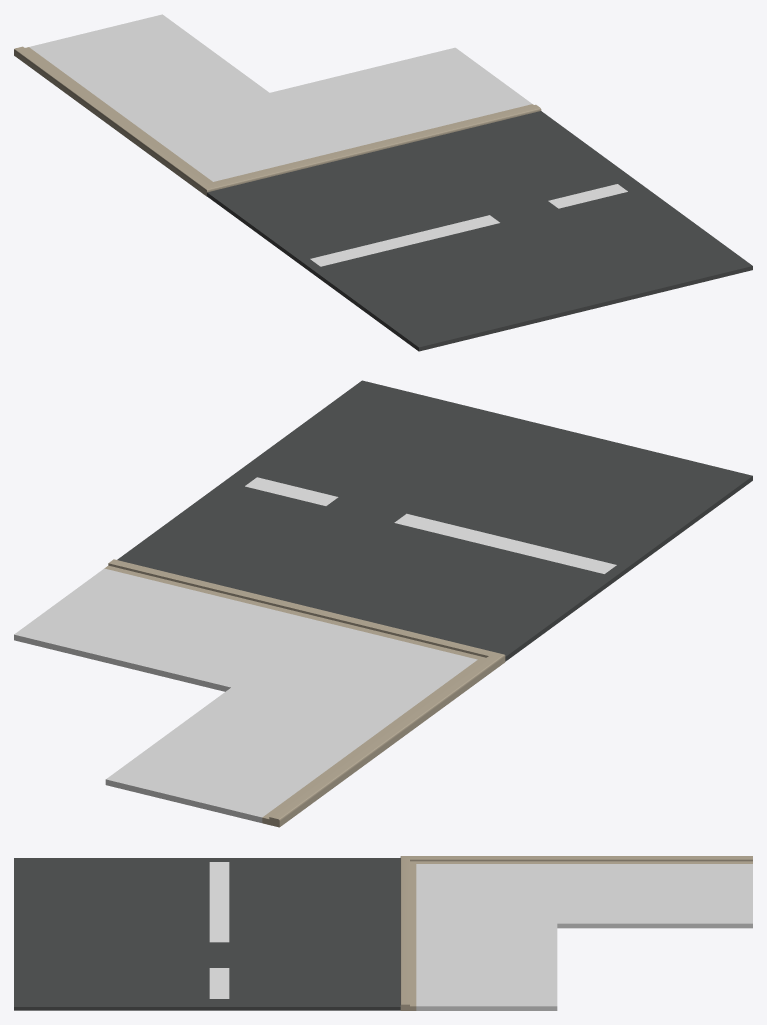
File: Corner_Sidewalk_Plus_Road.fbx
3 views of the same model, one above another, from view 1: azimuth 30°, elevation 25°; view 2: azimuth 150°, elevation 25°; view 3: azimuth 270°, elevation 25° (orthographic). The views are drawn at different scales.
Parts seen in each view (by area): view 1: Corner_Pavement_Plus_Road; view 2: Corner_Pavement_Plus_Road; view 3: Corner_Pavement_Plus_Road.
Boxes of the visible parts, x1,y1,x2,y2 form: Corner_Pavement_Plus_Road: [14, 14, 752, 351]; Corner_Pavement_Plus_Road: [14, 380, 752, 827]; Corner_Pavement_Plus_Road: [14, 856, 752, 1010].
Size of the model in its own units: 180 by 3.53 by 378.
